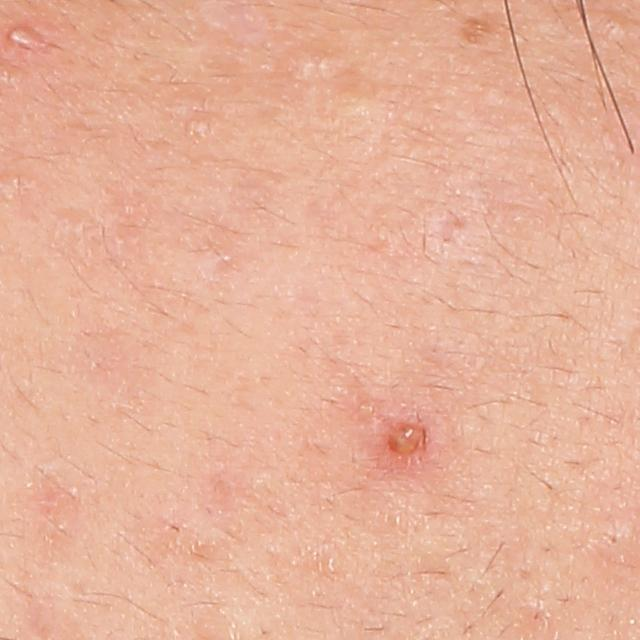comedo: (183, 116, 210, 141)
pustule: (380, 416, 426, 466)
